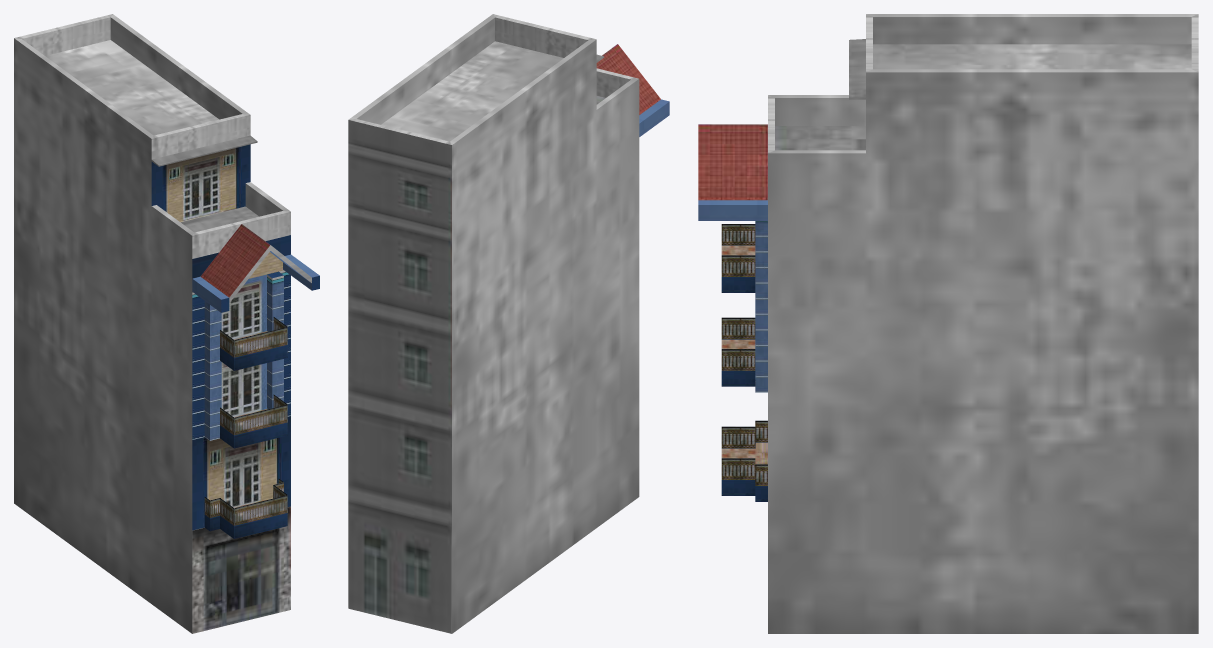
3 views of the same model, side by side, from view 1: azimuth 30°, elevation 25°; view 2: azimuth 150°, elevation 25°; view 3: azimuth 270°, elevation 25° (orthographic). The views are drawn at different scales.
Parts seen in each view (by area): view 1: 5da67dce8163ae1640b96389.001; view 2: 5da67dce8163ae1640b96389.001; view 3: 5da67dce8163ae1640b96389.001.
Part boxes in pixels (box(x1,y1,x2,y2)): 5da67dce8163ae1640b96389.001: box(14, 14, 319, 633); 5da67dce8163ae1640b96389.001: box(348, 14, 669, 633); 5da67dce8163ae1640b96389.001: box(698, 14, 1198, 633).
Size of the model in its own units: 4 by 18 by 14.52.
Materials: 1 (1 with a texture image).
